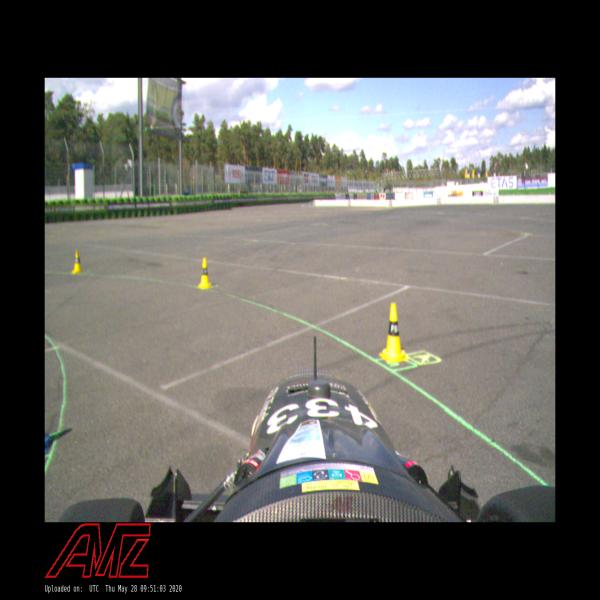yellow_cone: (381, 302, 405, 362), (198, 257, 210, 288), (72, 249, 82, 274)
